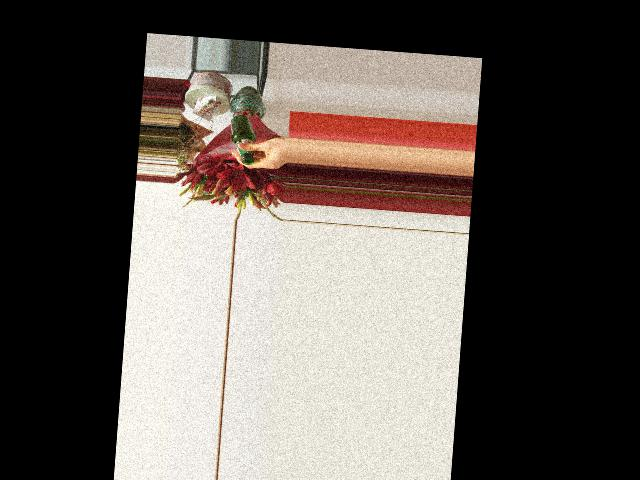beer: (227, 114, 258, 164)
